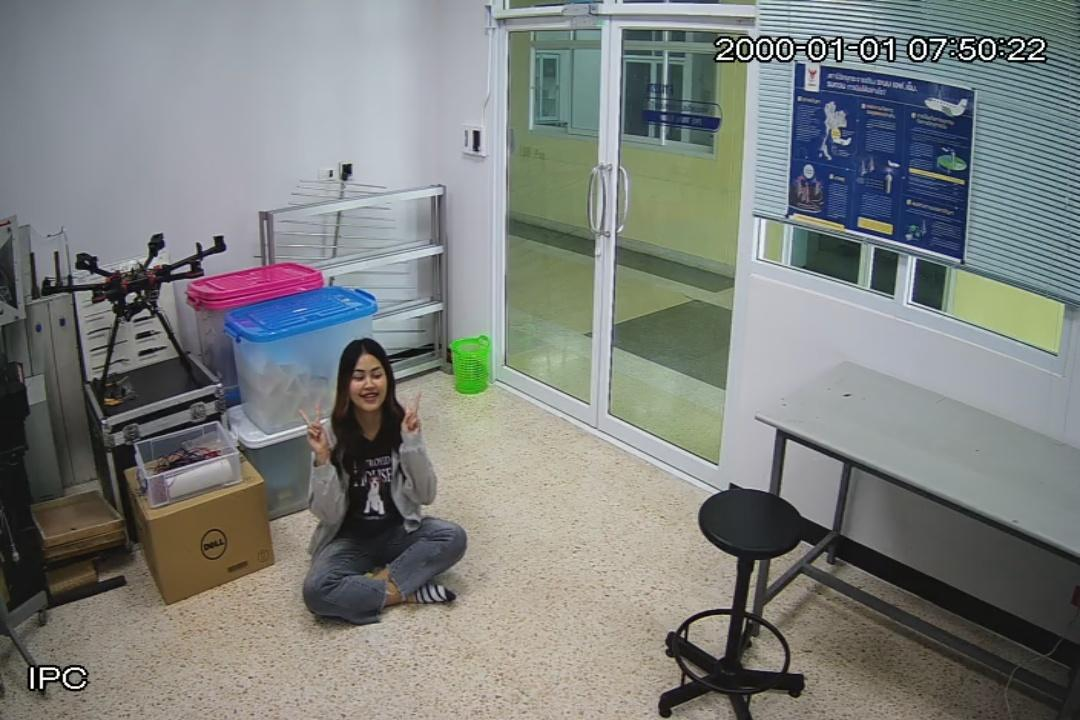normal: (292, 334, 470, 642)
